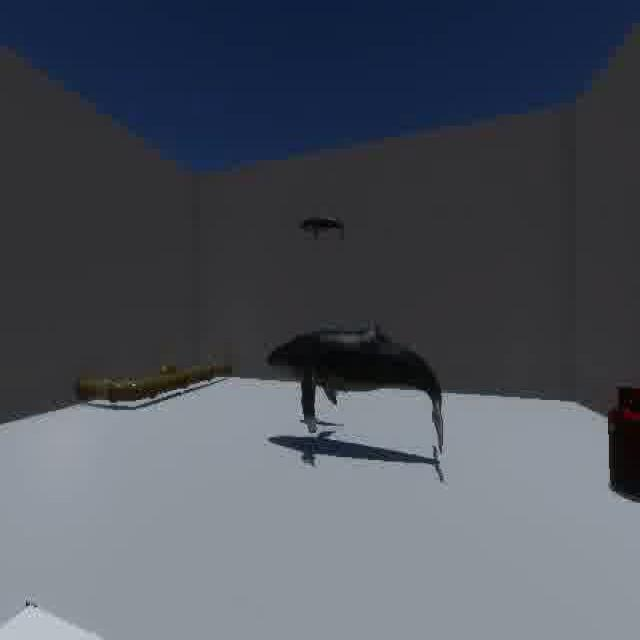Cylinder: (598, 364, 640, 510)
Pipe: (69, 354, 253, 416)
Whale: (263, 307, 468, 461), (290, 206, 352, 244)
